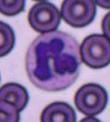N: (25, 31, 82, 91)
